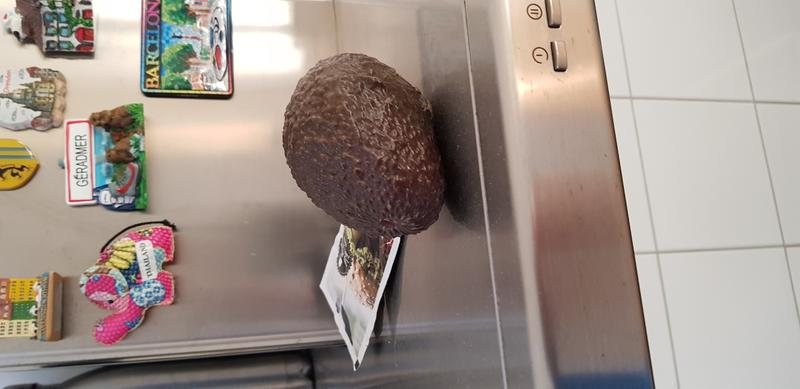Avocado: (277, 49, 459, 247)
